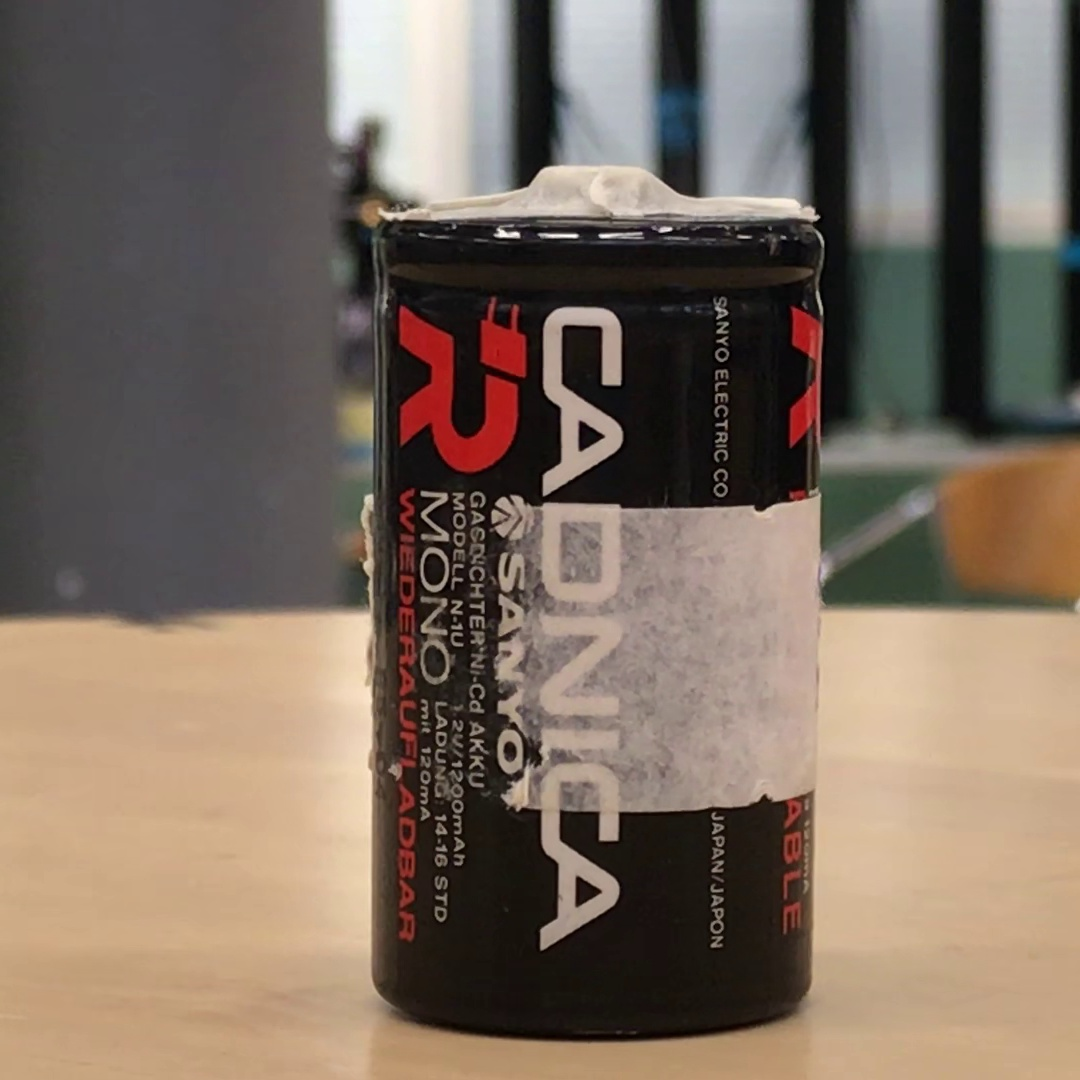keyword: (468, 646, 493, 722)
